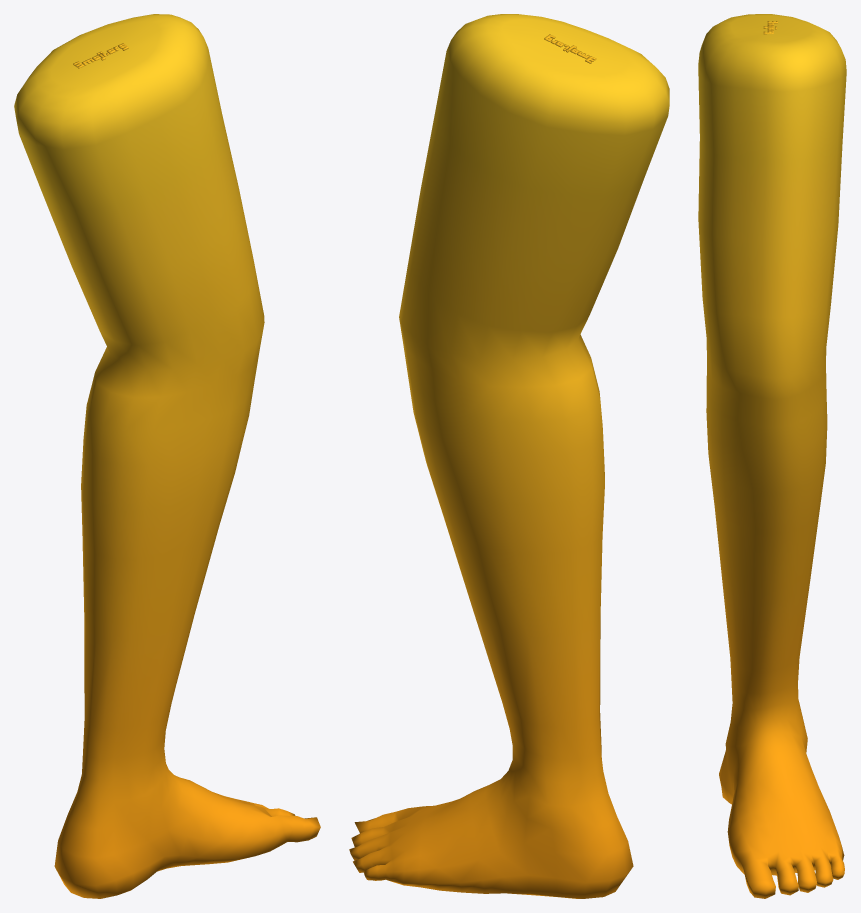
Rendered from leg.fbx.
3 views of the same model, side by side, from view 1: azimuth 30°, elevation 25°; view 2: azimuth 150°, elevation 25°; view 3: azimuth 270°, elevation 25° (orthographic). The views are drawn at different scales.
Visible parts, largest first — view 1: Circle.272; view 2: Circle.272; view 3: Circle.272.
Boxes of the visible parts, <box> form: Circle.272: <box>14,14,320,898</box>; Circle.272: <box>349,14,669,898</box>; Circle.272: <box>698,14,846,898</box>.
Size of the model in its own units: 69.58 by 189 by 32.04.
Materials: 2 (2 with a texture image).
